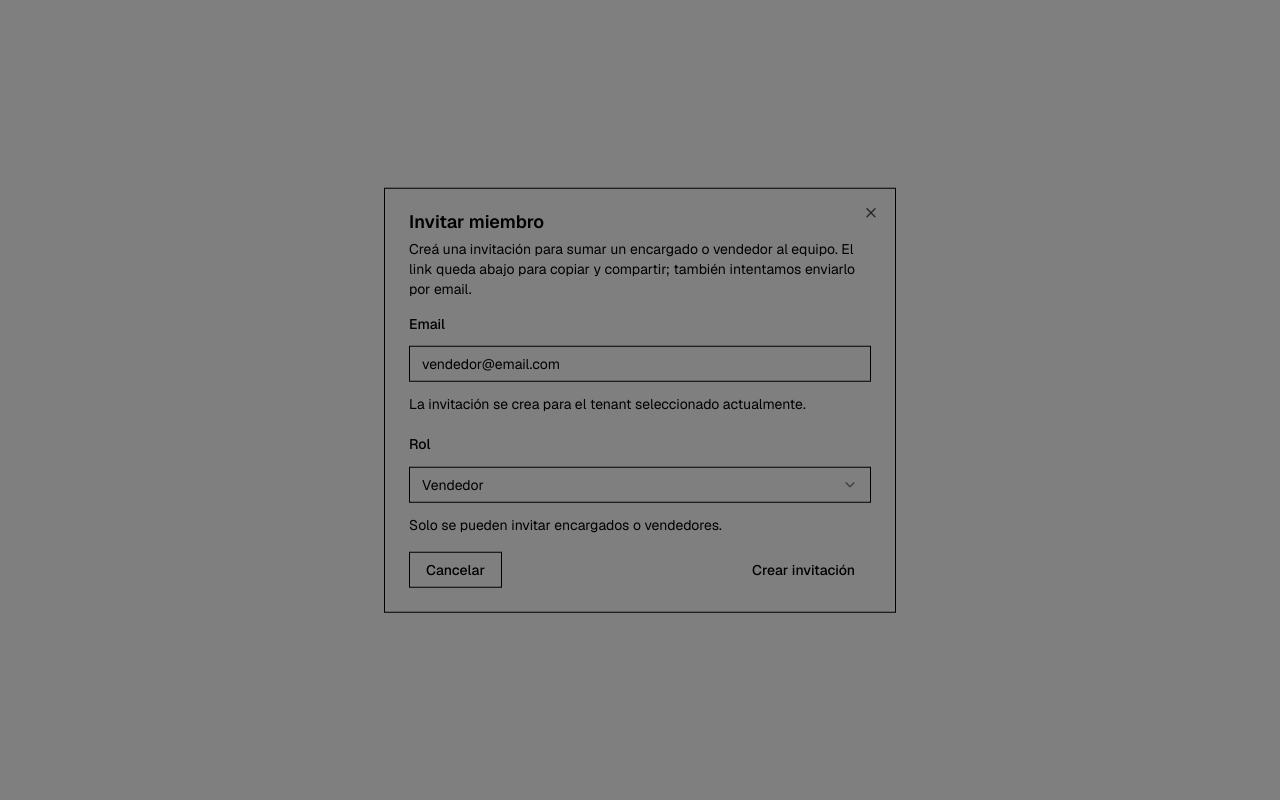
Test: InviteTeamMemberDialog › requires a valid email
The image size is (1280, 800).
Click the button "Crear invitación": (804, 569) [736,551,871,587]
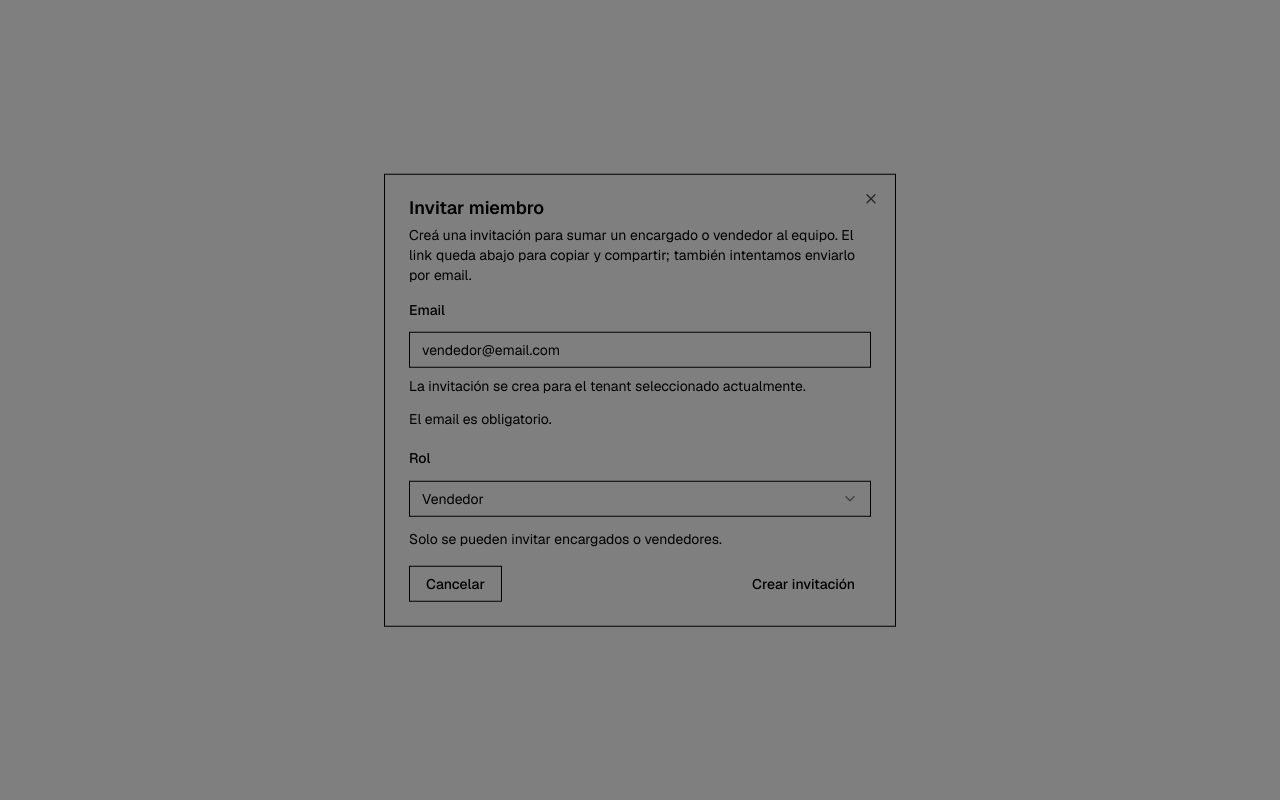
expect the text "El email es obligatorio." is shown: met, box [409,410,552,428]
In the field labelled "Email": (640, 350) [409,332,871,368], type "no-es-email"
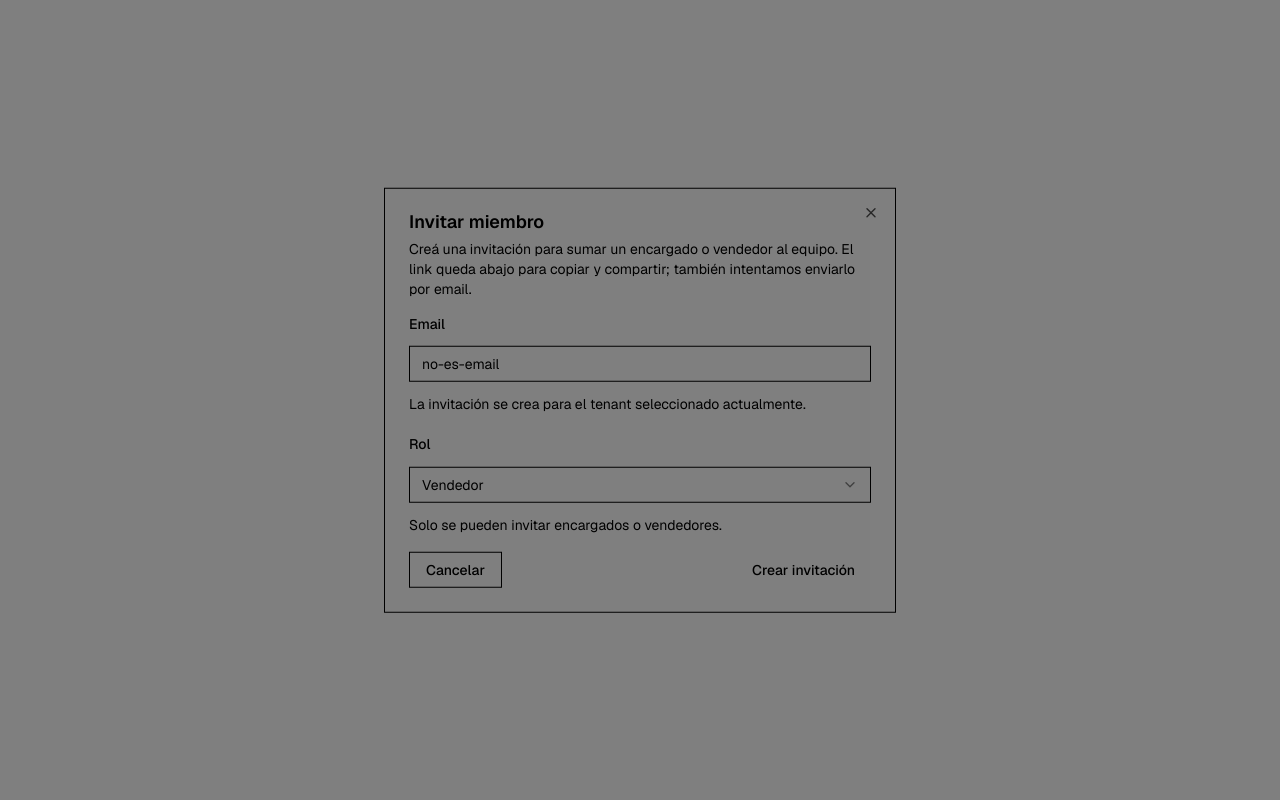
Click the button "Crear invitación": (804, 569) [736,551,871,587]
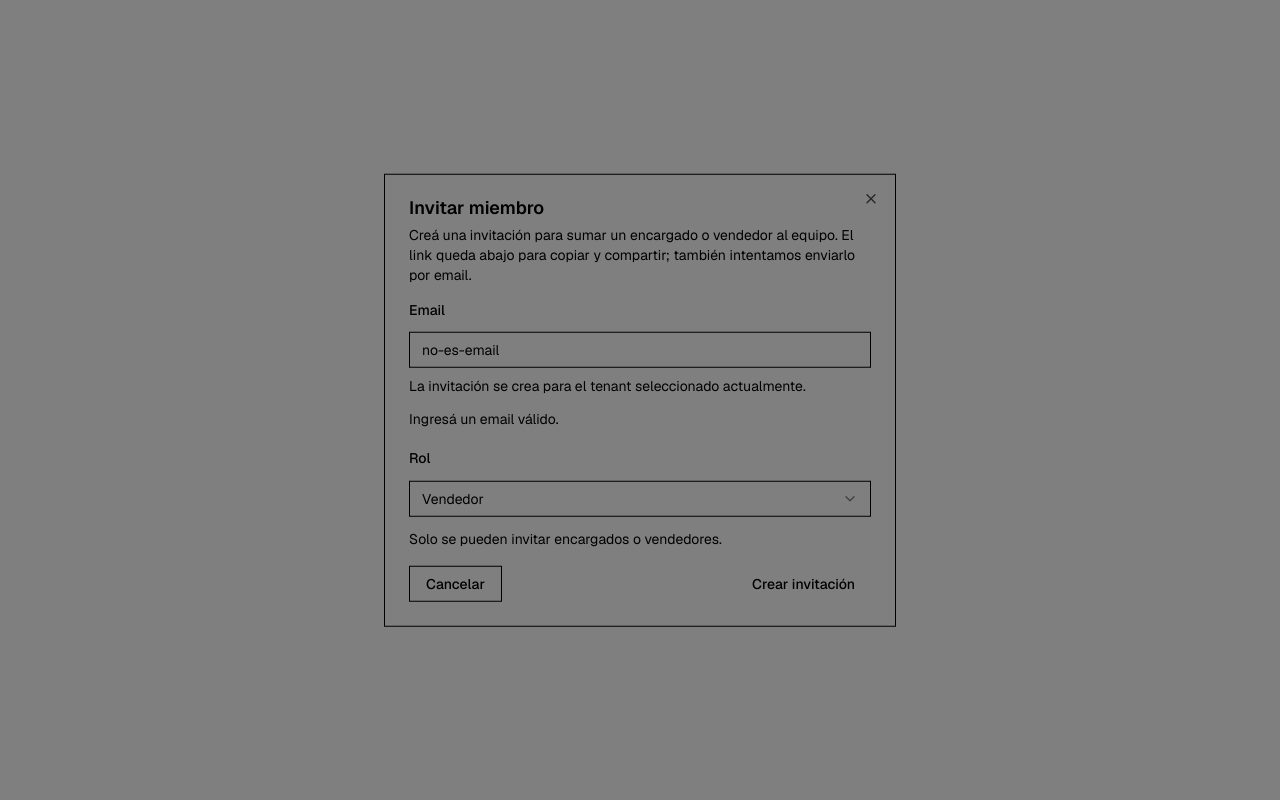
expect the text "Ingresá un email válido." is shown: met, box [409,410,558,428]
